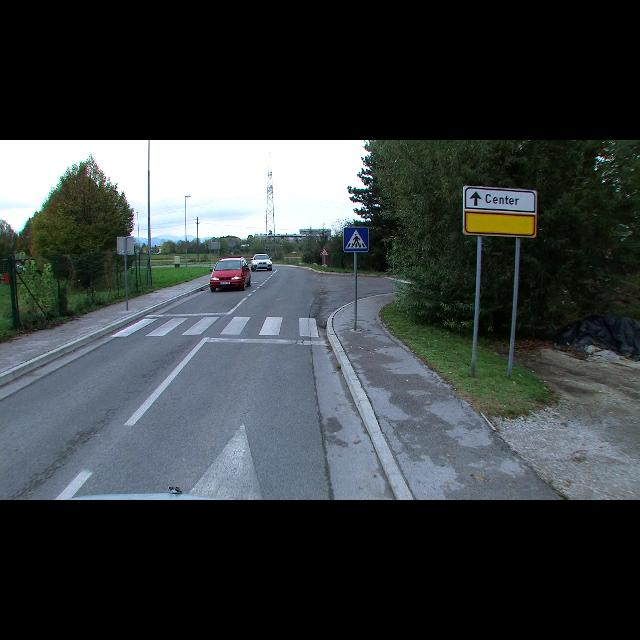Multi-inform: (464, 186, 536, 238)
Squared: (344, 226, 370, 252)
Triangle: (321, 247, 327, 257)
